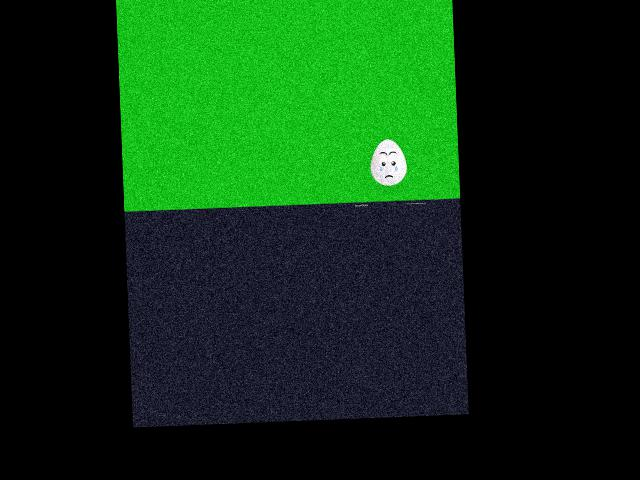egg: (369, 139, 407, 186)
